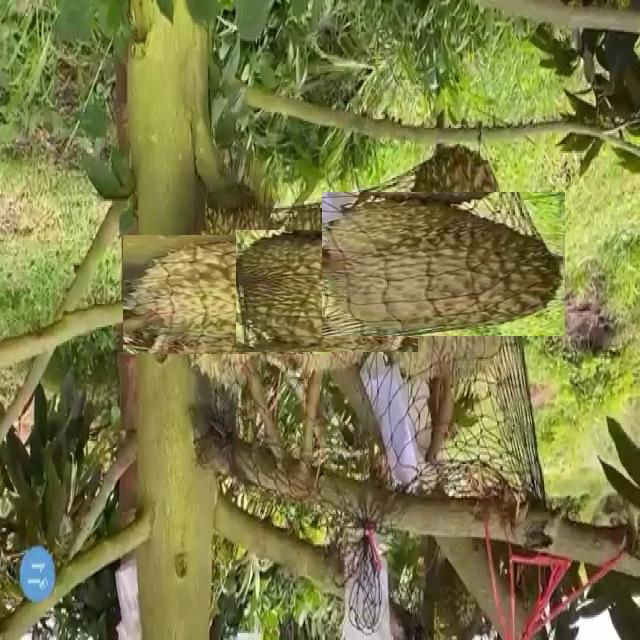durian: (347, 167, 541, 361), (145, 212, 308, 376), (250, 215, 403, 367)
